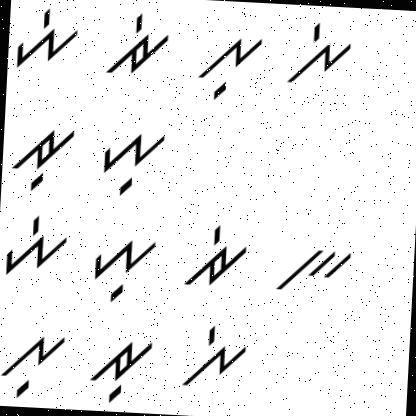le: (176, 322, 253, 392), (280, 17, 355, 88)
lu: (191, 24, 264, 105), (0, 320, 68, 400)
re: (173, 219, 252, 298), (102, 8, 172, 80)
ru: (87, 330, 156, 410), (7, 124, 78, 196)
ye: (8, 3, 83, 74), (2, 213, 71, 281)
yu: (85, 228, 159, 309), (96, 130, 172, 198)
